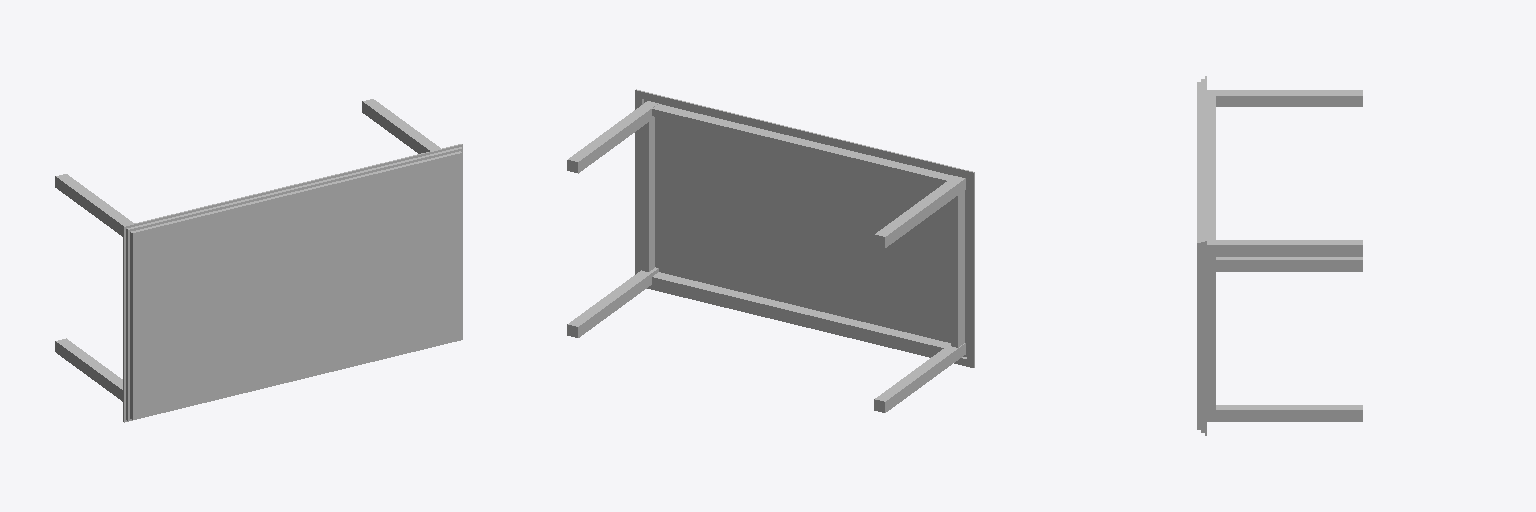
File: table_fixed.obj
3 renders of one model, left to right at view 1: azimuth 30°, elevation 25°; view 2: azimuth 150°, elevation 25°; view 3: azimuth 270°, elevation 25°, orthographic.
Bounding box in the file's own units: 2.6 × 1.44 × 1.11.